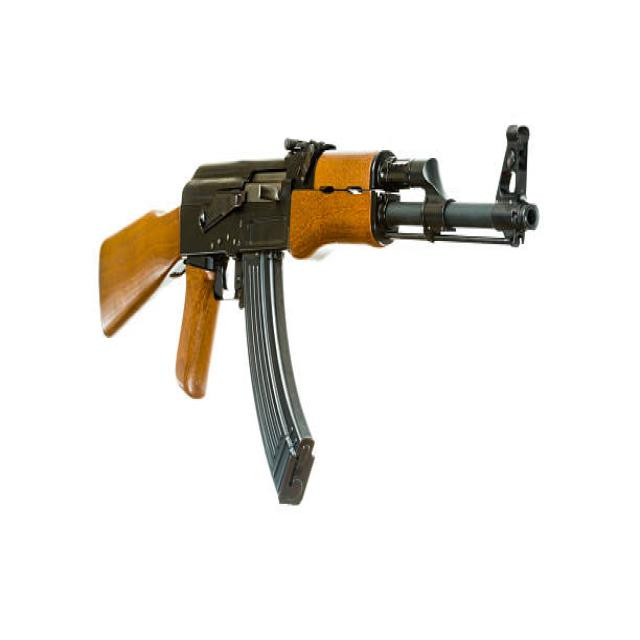rifle: (88, 108, 552, 519)
